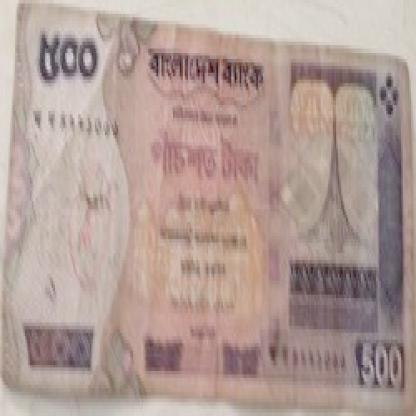500 taka: (25, 28, 111, 86), (354, 329, 412, 402)
currency: (5, 7, 414, 412)
